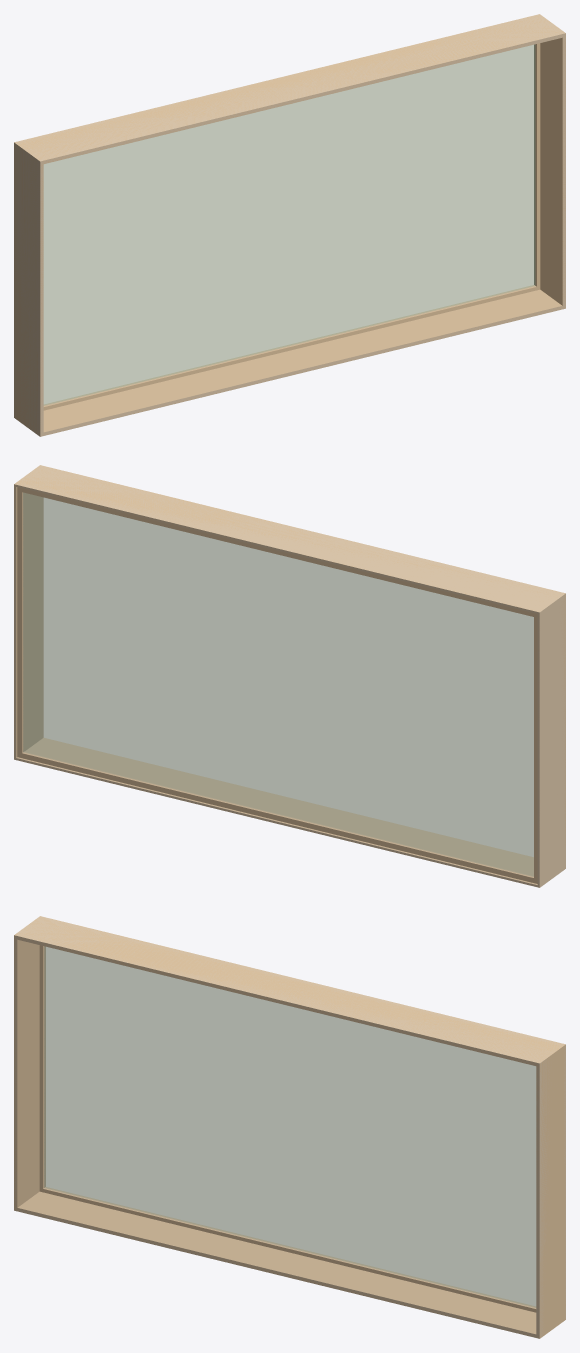
File: window-4835mm-x-2420mm.glb
3 renders of one model, top to bottom at view 1: azimuth 30°, elevation 25°; view 2: azimuth 150°, elevation 25°; view 3: azimuth 330°, elevation 25°, orthographic.
Visible parts, largest first — view 1: 1xS3BCk291UvhgP2dvNrrP, 1hOSvn6df7F8_7GcBWlR72; view 2: 1xS3BCk291UvhgP2dvNrrP, 1hOSvn6df7F8_7GcBWlR72; view 3: 1xS3BCk291UvhgP2dvNrrP, 1hOSvn6df7F8_7GcBWlR72.
Part boxes in pixels (<box>): 1xS3BCk291UvhgP2dvNrrP: <box>14,19,564,431</box>; 1hOSvn6df7F8_7GcBWlR72: <box>14,14,565,436</box>; 1xS3BCk291UvhgP2dvNrrP: <box>14,477,537,884</box>; 1hOSvn6df7F8_7GcBWlR72: <box>14,465,565,887</box>; 1xS3BCk291UvhgP2dvNrrP: <box>14,920,565,1335</box>; 1hOSvn6df7F8_7GcBWlR72: <box>14,916,565,1338</box>.
Size of the model in its own units: 4.83 by 2.42 by 0.417.
